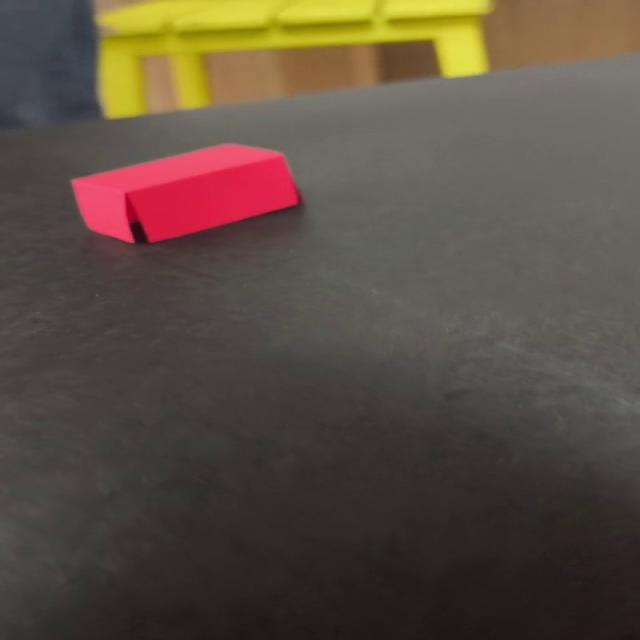red block: (70, 142, 302, 244)
